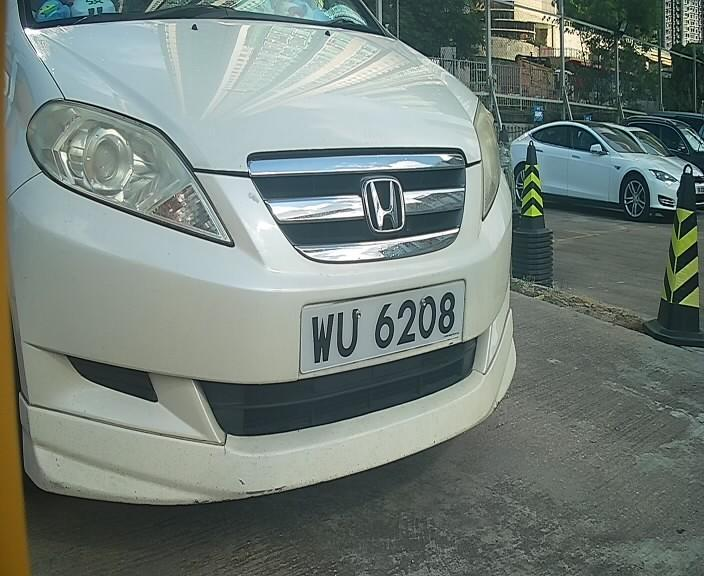License Plate: (302, 276, 472, 376)
